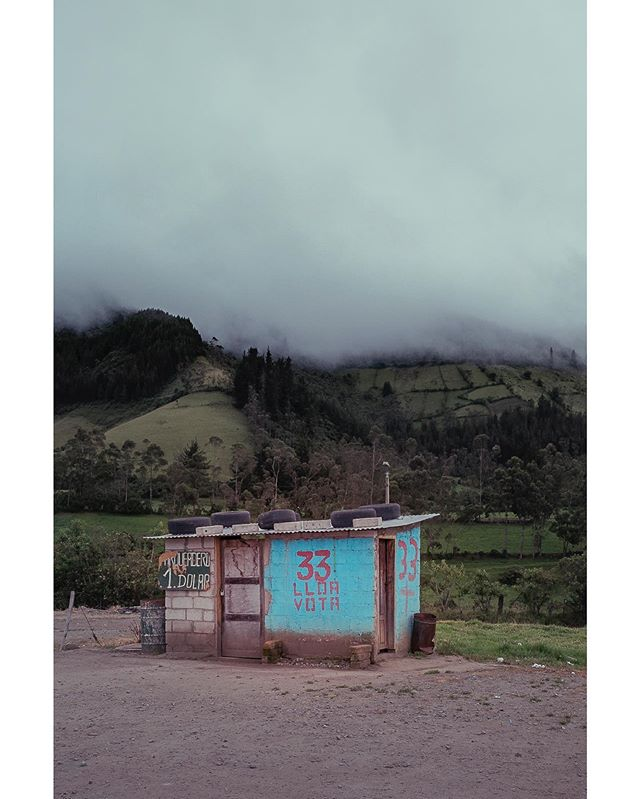building: (168, 509, 432, 664)
sky: (54, 1, 564, 336)
vegetation: (45, 330, 561, 518)
